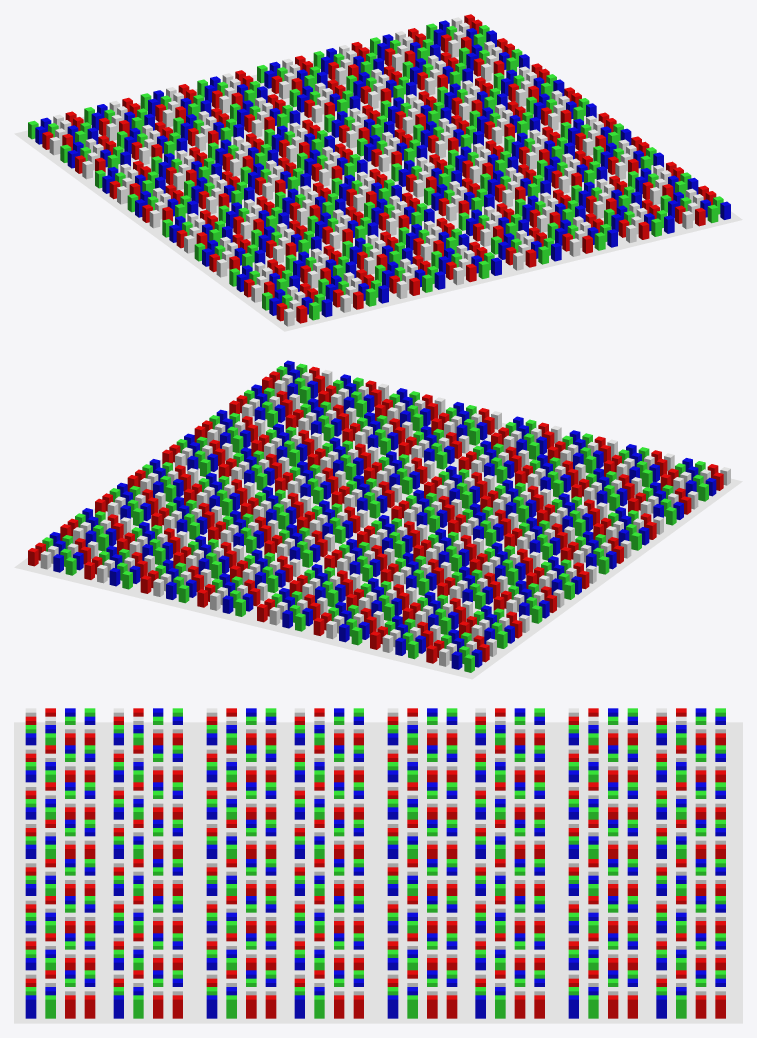
Rendered from example1.dae.
3 views of the same model, one above another, from view 1: azimuth 30°, elevation 25°; view 2: azimuth 150°, elevation 25°; view 3: azimuth 270°, elevation 25° (orthographic). The views are drawn at different scales.
Parts seen in each view (by area): view 1: group_61; view 2: group_61; view 3: group_61, group_82, group_112, group_121, group_111, group_120, group_83, group_98, group_100, group_79, group_107, group_116 (+47 smaller).
Part boxes in pixels (x1,y1,x2,y2): group_61: (14,33,742,331); group_61: (14,381,742,679); group_61: (14,722,742,1023); group_82: (562,987,647,1022); group_112: (290,987,375,1022); group_121: (109,987,194,1022); group_111: (381,987,466,1022); group_120: (200,987,285,1022); group_83: (471,987,556,1022); group_98: (19,987,104,1022); group_100: (652,987,737,1022); group_79: (562,874,647,910); group_107: (290,874,375,910); group_116: (109,874,194,910).
Bounding box in the file's own units: 63937 × 65354 × 1890.
